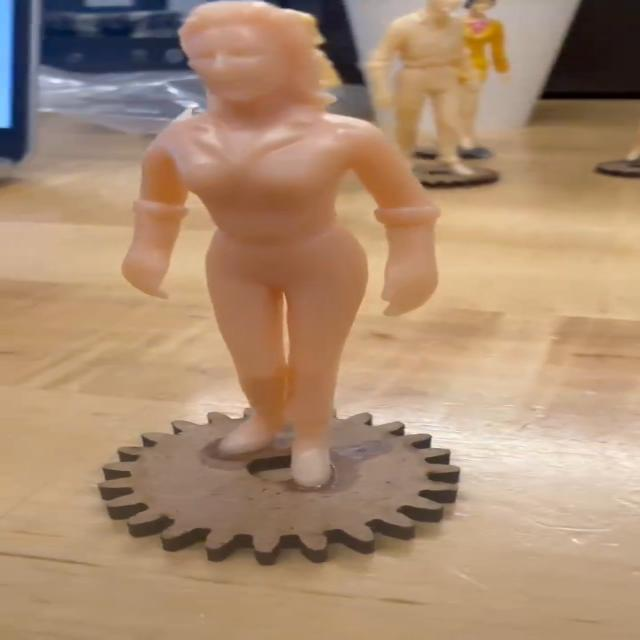Unauthorized: (117, 2, 463, 491)
